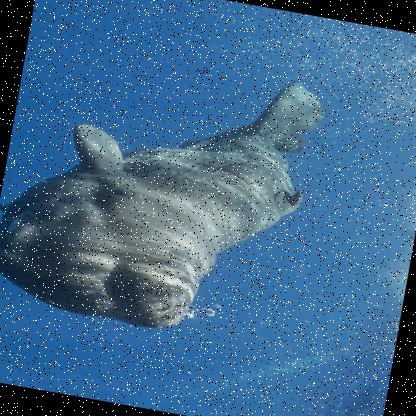sperm_whale: (0, 17, 353, 362)
